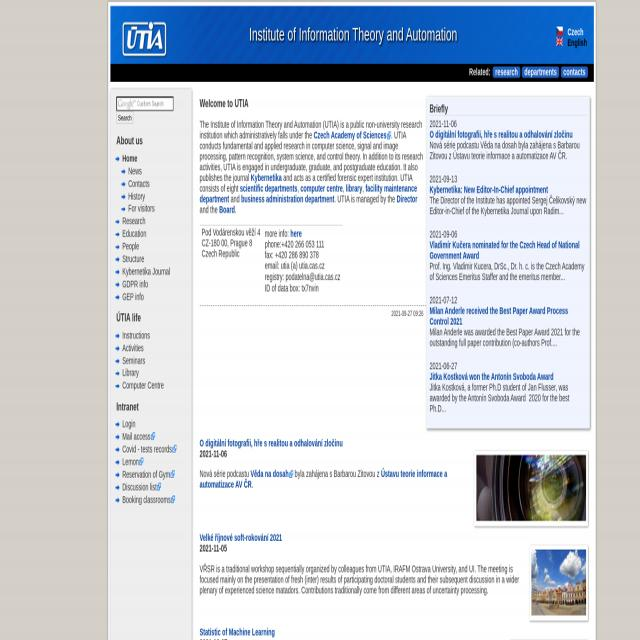button: (477, 454, 588, 525), (530, 547, 588, 620), (120, 16, 170, 61), (522, 66, 559, 80), (493, 66, 520, 80), (562, 66, 587, 78), (116, 110, 134, 121), (553, 25, 566, 34), (553, 36, 566, 44)
field: (116, 95, 174, 110)
